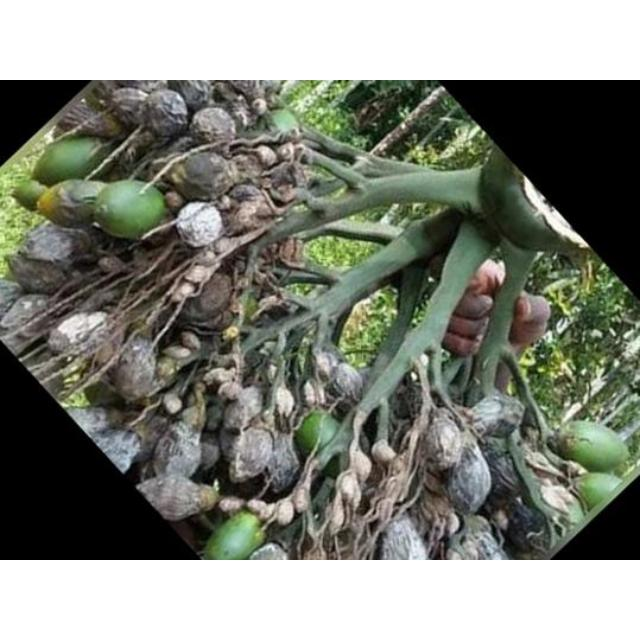damaged: (136, 473, 214, 521), (110, 334, 162, 402), (149, 420, 203, 484), (178, 272, 236, 330), (226, 422, 282, 482), (446, 444, 492, 516), (421, 412, 465, 472), (264, 434, 304, 496), (140, 90, 190, 138), (8, 256, 70, 294), (376, 515, 429, 559), (226, 186, 274, 234), (470, 396, 522, 440), (221, 386, 265, 436), (108, 87, 154, 129), (324, 362, 366, 406), (192, 106, 238, 144), (135, 412, 173, 454), (267, 158, 303, 194), (310, 350, 340, 384), (203, 367, 237, 393), (219, 423, 243, 457), (273, 386, 295, 420), (180, 404, 204, 434), (275, 499, 295, 526), (218, 382, 242, 404)
